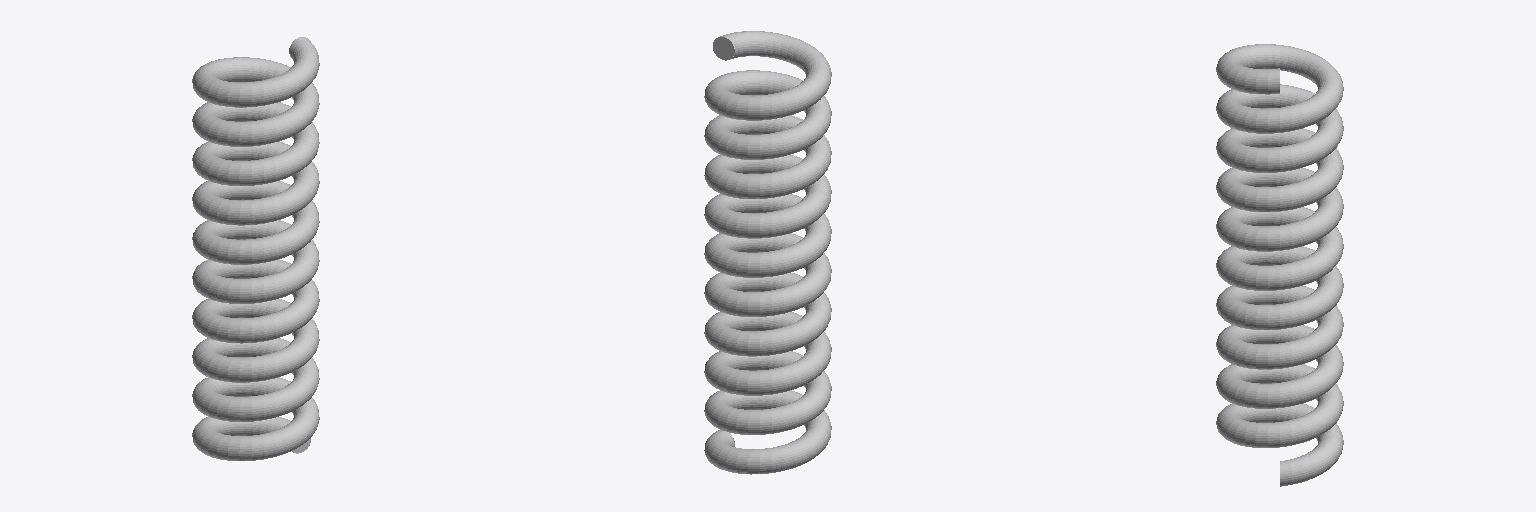
File: fjäder.obj
3 views of the same model, side by side, from view 1: azimuth 30°, elevation 25°; view 2: azimuth 150°, elevation 25°; view 3: azimuth 270°, elevation 25° (orthographic).
Parts seen in each view (by area): view 1: Circle; view 2: Circle; view 3: Circle.
Boxes of the visible parts, x1=… form: Circle: x1=192, y1=37, x2=319, y2=460; Circle: x1=704, y1=31, x2=831, y2=474; Circle: x1=1216, y1=44, x2=1343, y2=486.
Size of the model in its own units: 2.5 by 9 by 2.5.